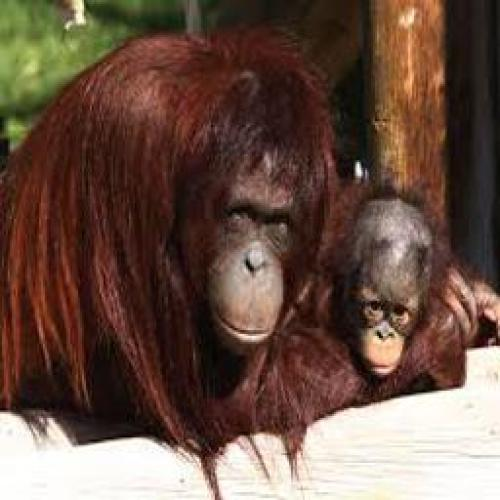orangutan-endangered: (0, 34, 347, 444), (309, 184, 483, 394)
